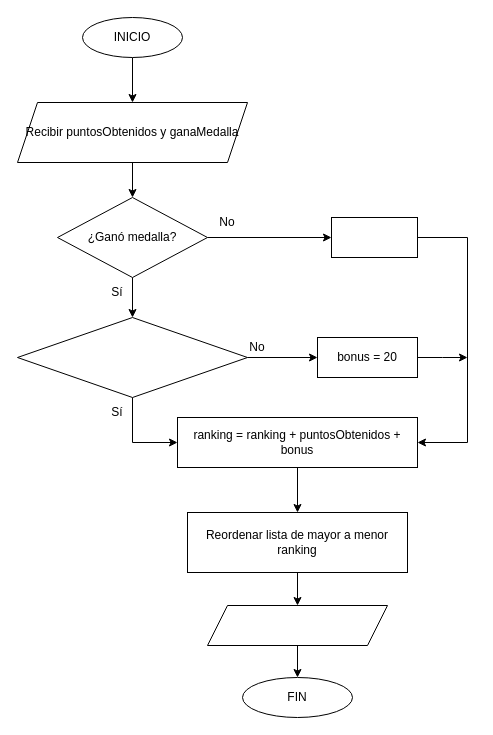
Image size: 493x735. Some labels were removed from this diagram. The centre of each missing label's shape, as x and y in pixels:
bonus = 0: the point at 374,237
Mostrar la tabla actualizada: the point at 297,625
puntosObtenidos >= 100: the point at 132,357
